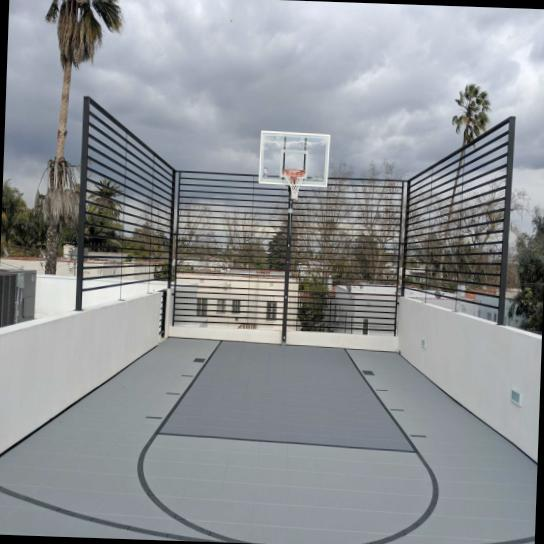basketball-hoop: (282, 166, 306, 200)
